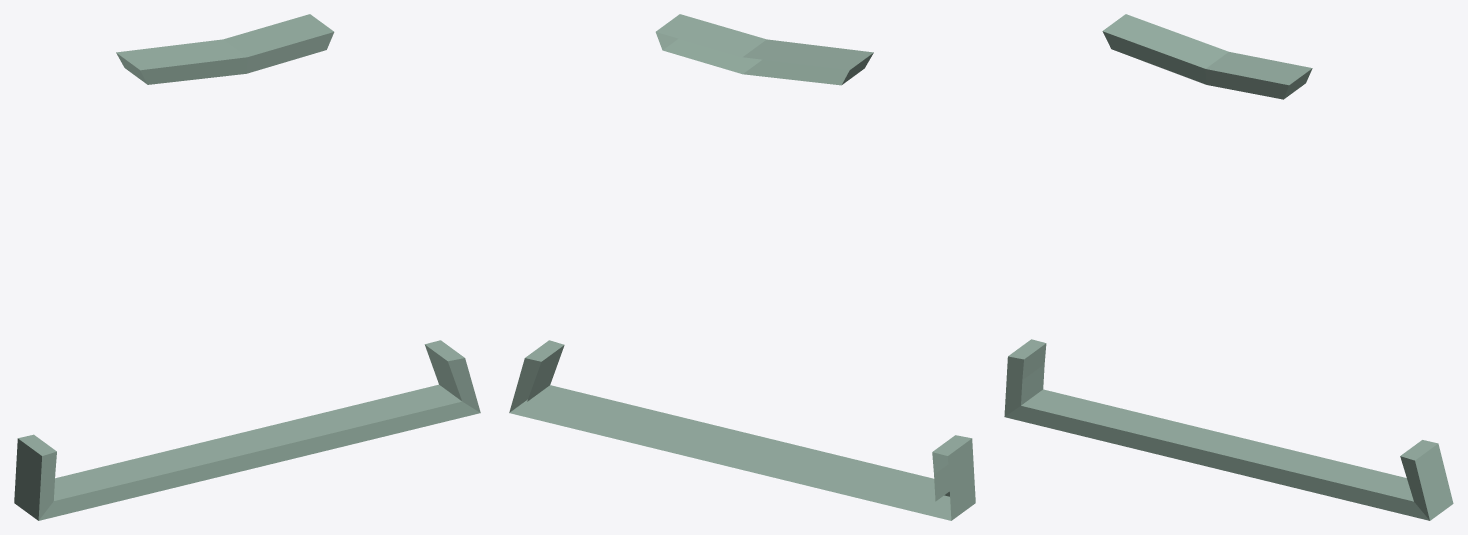
The model's file is mod_wall_iceberg.fbx.
3 views of the same model, side by side, from view 1: azimuth 30°, elevation 25°; view 2: azimuth 150°, elevation 25°; view 3: azimuth 330°, elevation 25° (orthographic). The views are drawn at different scales.
Visible parts, largest first — view 1: iceberg; view 2: iceberg; view 3: iceberg.
Part boxes in pixels (x1=…): iceberg: x1=14, y1=14, x2=480, y2=520; iceberg: x1=509, y1=14, x2=975, y2=520; iceberg: x1=1004, y1=14, x2=1453, y2=520.
Size of the model in its own units: 2241 by 2062 by 214.
